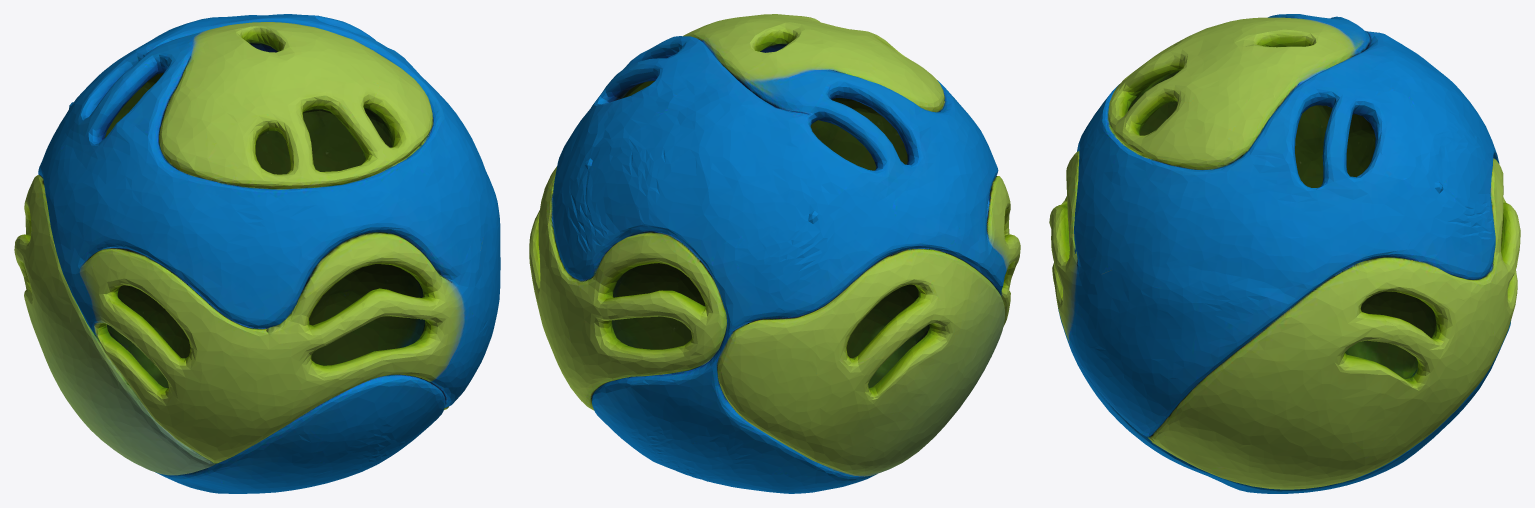
File: toy_7.glb
The picture shows the model from 3 angles, left to right: view 1: azimuth 30°, elevation 25°; view 2: azimuth 150°, elevation 25°; view 3: azimuth 270°, elevation 25°; orthographic projection.
Visible parts, largest first — view 1: tripo_node_84c49565-321c-4ed1-9303-aaab76ef0646; view 2: tripo_node_84c49565-321c-4ed1-9303-aaab76ef0646; view 3: tripo_node_84c49565-321c-4ed1-9303-aaab76ef0646.
Part boxes in pixels (box(x1,y1,x2,y2)): tripo_node_84c49565-321c-4ed1-9303-aaab76ef0646: box(14, 14, 500, 493); tripo_node_84c49565-321c-4ed1-9303-aaab76ef0646: box(529, 14, 1020, 493); tripo_node_84c49565-321c-4ed1-9303-aaab76ef0646: box(1049, 14, 1520, 493).
Size of the model in its own units: 0.9966 by 1 by 0.9969.
1 material, 1 textured.
